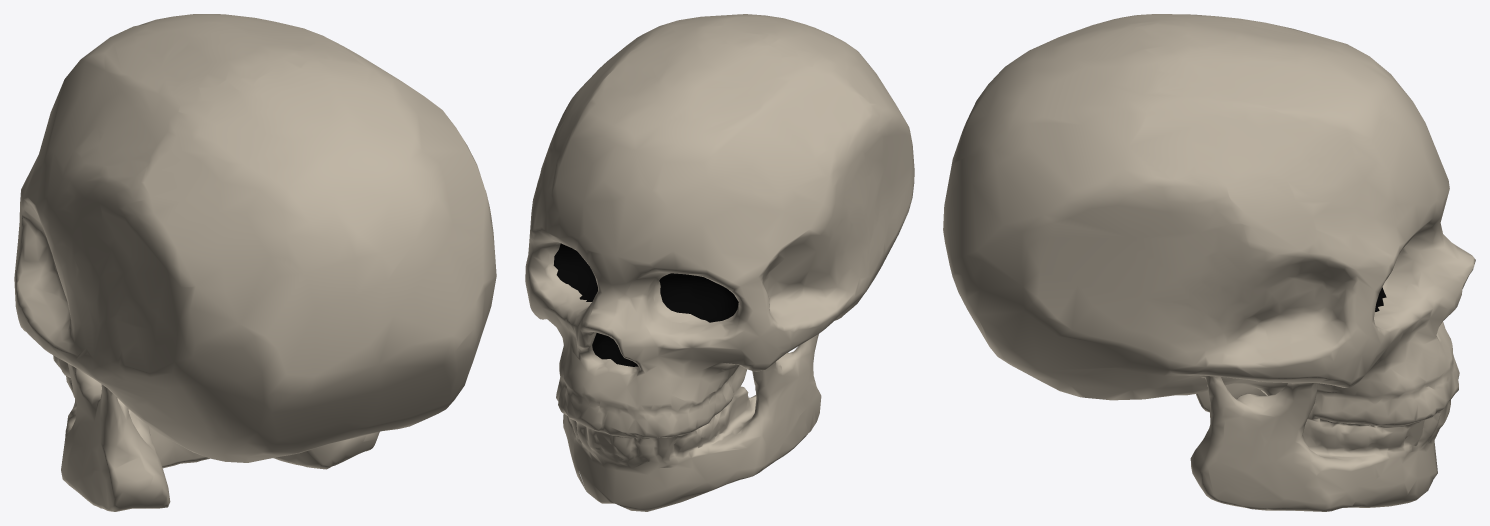
File: skull.glb
3 renders of one model, left to right at view 1: azimuth 30°, elevation 25°; view 2: azimuth 150°, elevation 25°; view 3: azimuth 270°, elevation 25°, orthographic. The views are drawn at different scales.
Parts seen in each view (by area): view 1: skull; view 2: skull; view 3: skull.
Boxes of the visible parts, x1,y1,x2,y2 form: skull: (14, 14, 496, 511); skull: (525, 14, 914, 511); skull: (943, 14, 1475, 511).
Size of the model in its own units: 0.7318 by 0.9863 by 1.05.
